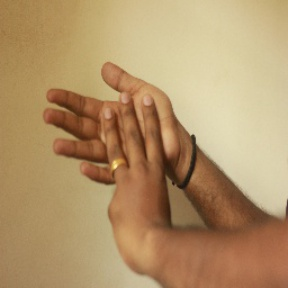M: (43, 59, 188, 232)
